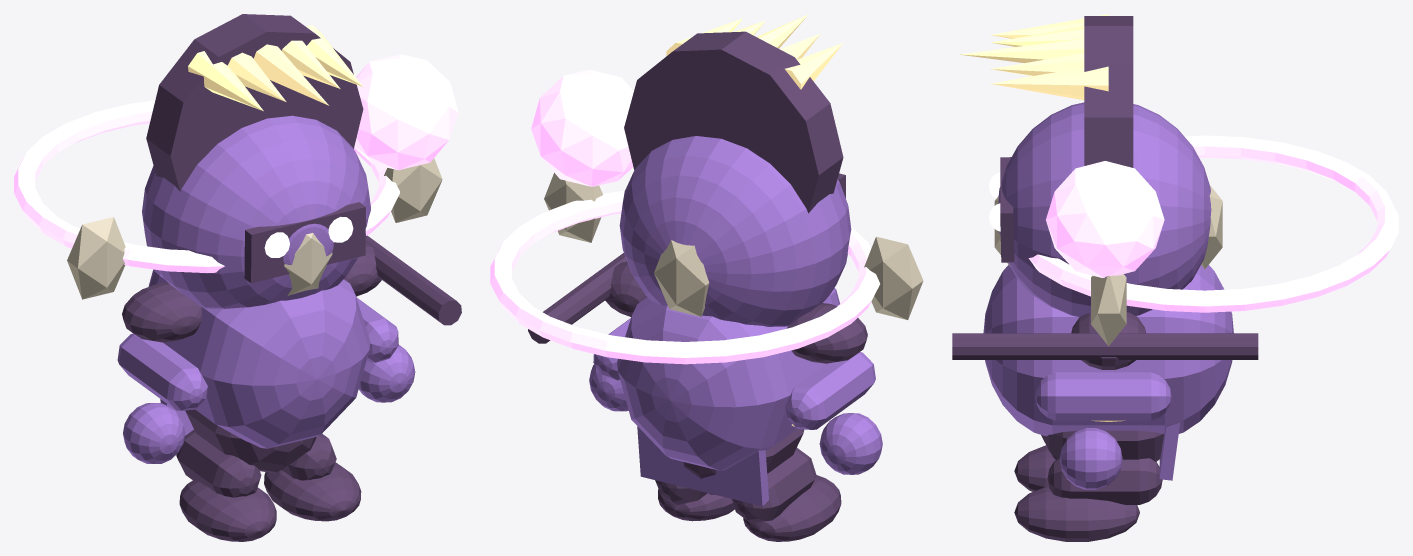
The model's file is boss-king-sd-toon.glb.
3 renders of one model, left to right at view 1: azimuth 30°, elevation 25°; view 2: azimuth 150°, elevation 25°; view 3: azimuth 270°, elevation 25°, orthographic.
Visible parts, largest first — view 1: head, body, crownBase, signature, halo, footL, armL, footR, mask, shoulderL, orbitMask2, legL (+14 smaller); view 2: head, crownBase, body, halo, signature, cloth, armL, orbitMask2, footL, handL, orbitMask3, legL (+11 smaller); view 3: head, body, halo, signature, weapon, crownBase, armR, footR, handR, legR, orbitMask0, crownSpike4 (+10 smaller).
Part boxes in pixels (x1,y1,x2,y2): head: (142, 115, 370, 308); body: (148, 269, 370, 448); crownBase: (146, 14, 363, 191); signature: (354, 54, 458, 170); halo: (14, 100, 399, 272); footL: (179, 480, 276, 541); armL: (117, 333, 207, 410); footR: (264, 462, 361, 521); mask: (244, 202, 365, 283); shoulderL: (122, 282, 201, 342); orbitMask2: (67, 217, 125, 299); legL: (176, 429, 261, 497); head: (619, 136, 851, 326); crownBase: (624, 31, 843, 213); body: (617, 288, 839, 470); halo: (490, 190, 879, 364); signature: (531, 69, 633, 186); cloth: (637, 426, 768, 506); armL: (785, 352, 875, 429); orbitMask2: (864, 236, 923, 319); footL: (743, 475, 841, 541); handL: (819, 413, 882, 474); orbitMask3: (654, 240, 709, 316); legL: (732, 448, 816, 522); head: (998, 102, 1211, 317); body: (983, 265, 1233, 436); halo: (1028, 135, 1398, 312); signature: (1046, 161, 1164, 277); weapon: (952, 333, 1258, 359); crownBase: (1084, 16, 1133, 167); armR: (1035, 372, 1171, 420); footR: (1014, 486, 1139, 541); handR: (1059, 428, 1122, 489); legR: (1047, 458, 1162, 504); orbitMask0: (1091, 274, 1126, 346); crownSpike4: (990, 66, 1108, 100).
Size of the model in its own units: 2.5 by 3.09 by 2.55.
